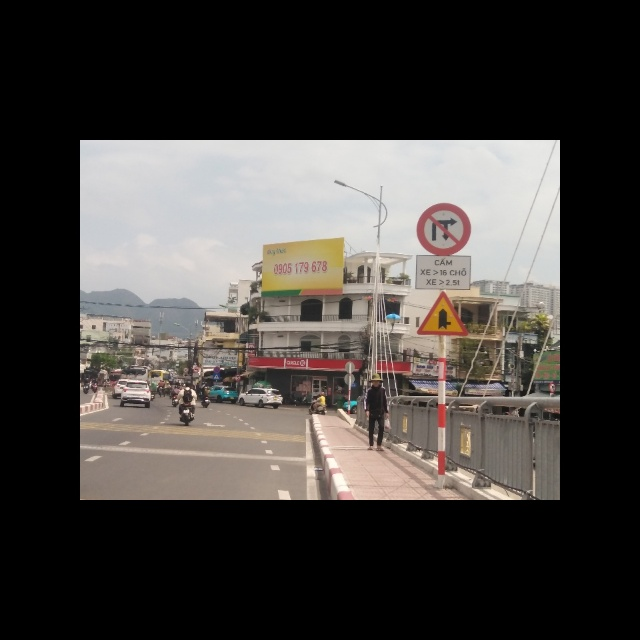Cấm quay đầu và rẽ phải: (417, 202, 471, 258)
Giao nhau với đường không ưu tiên: (417, 292, 466, 337)
